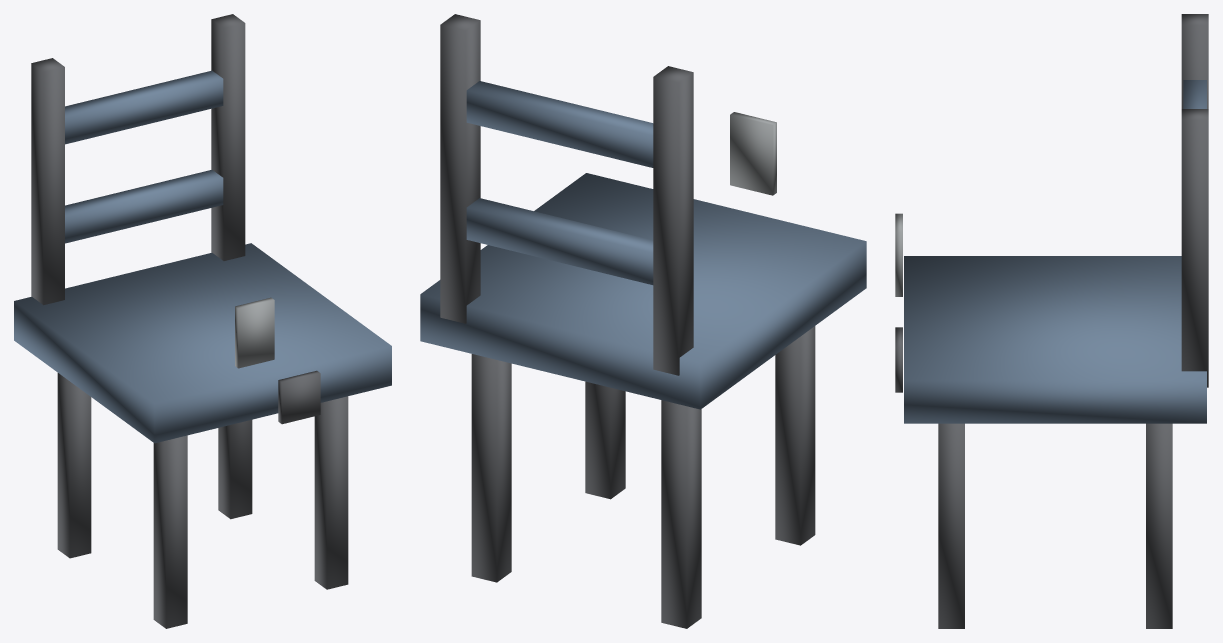
Rendered from station_bench__weathered.glb.
3 views of the same model, side by side, from view 1: azimuth 30°, elevation 25°; view 2: azimuth 150°, elevation 25°; view 3: azimuth 270°, elevation 25° (orthographic). The views are drawn at different scales.
Parts seen in each view (by area): view 1: world; view 2: world; view 3: world.
Part boxes in pixels (x1,y1,x2,y2): world: (14,14,391,628); world: (420,14,866,628); world: (895,14,1208,628).
Bounding box in the file's own units: 0.4959 × 0.9518 × 0.5255.
